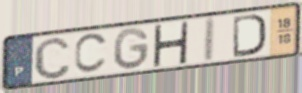C: (32, 35, 72, 81), (73, 31, 111, 75)
D: (232, 12, 268, 59)
G: (112, 26, 151, 72)
H: (151, 20, 191, 67)
I: (201, 15, 218, 65)
